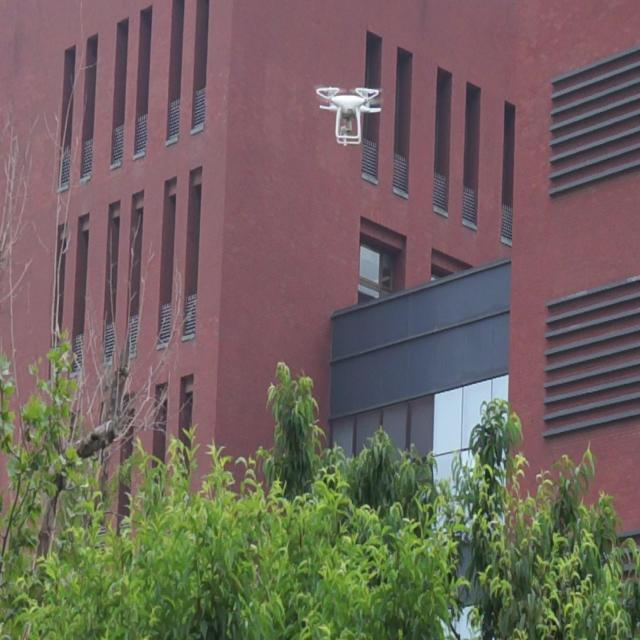UAV: (316, 87, 382, 145)
